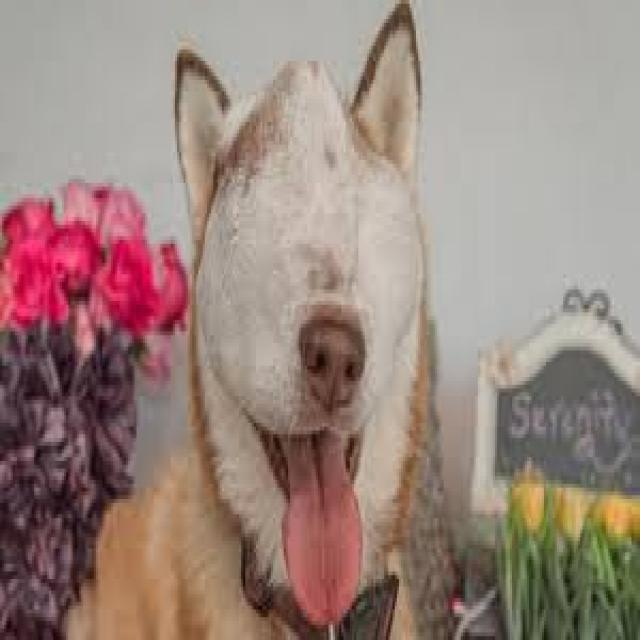Dog: (71, 0, 424, 640)
